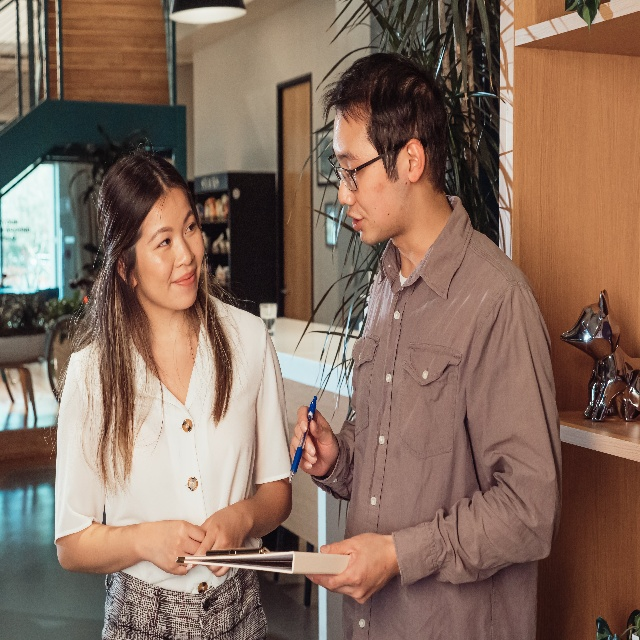Gafas: (327, 140, 412, 192)
Sin_guantes: (305, 531, 392, 606), (185, 504, 255, 578), (289, 402, 340, 480), (147, 517, 207, 576)
